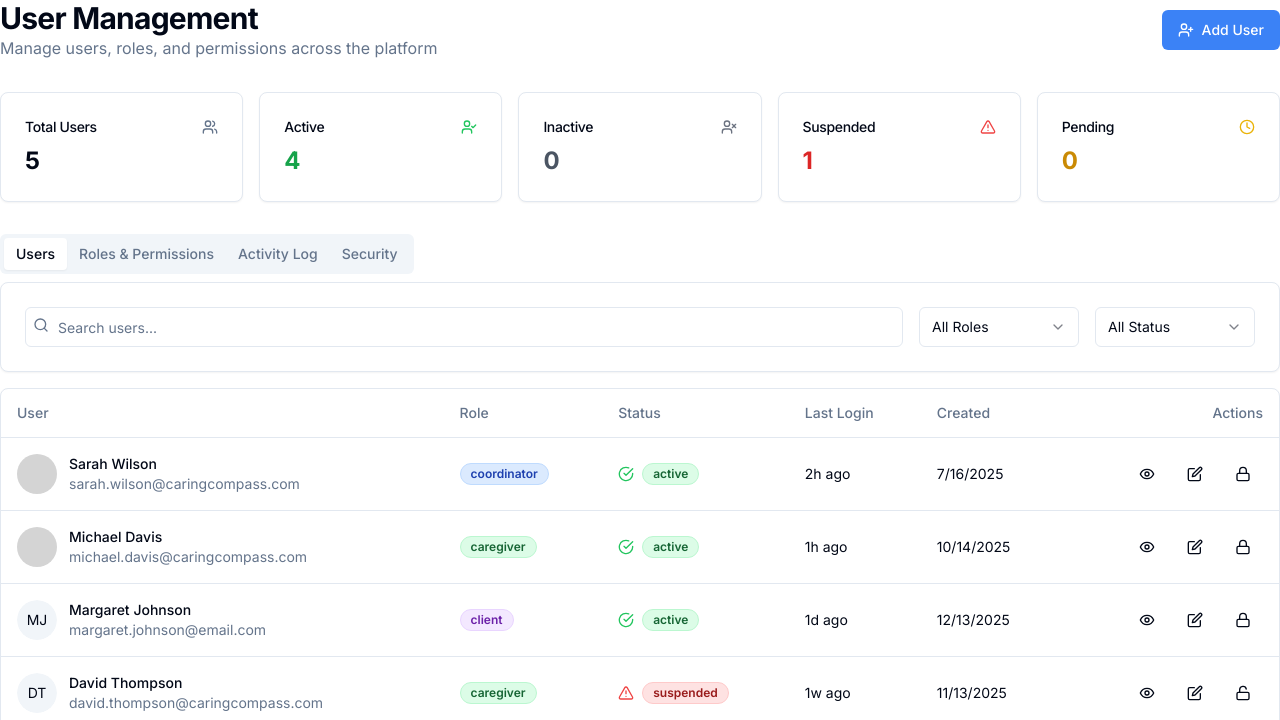
Test: UserManagement › opens add user dialog when button is clicked
This screenshot has width=1280, height=720.
Click the button "Add User".
click(1221, 30)  # box 1162,10 -> 1279,50
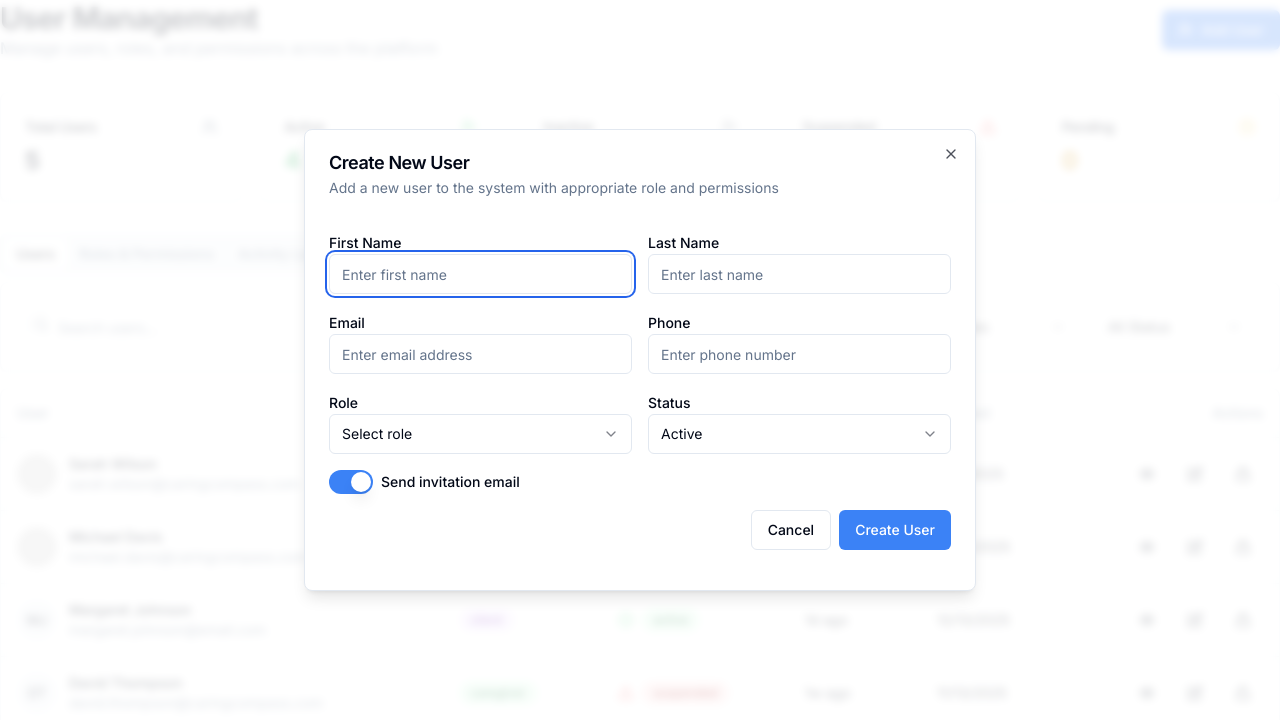
expect the heading "Create New User" is shown: met, box 329,152 -> 469,173
